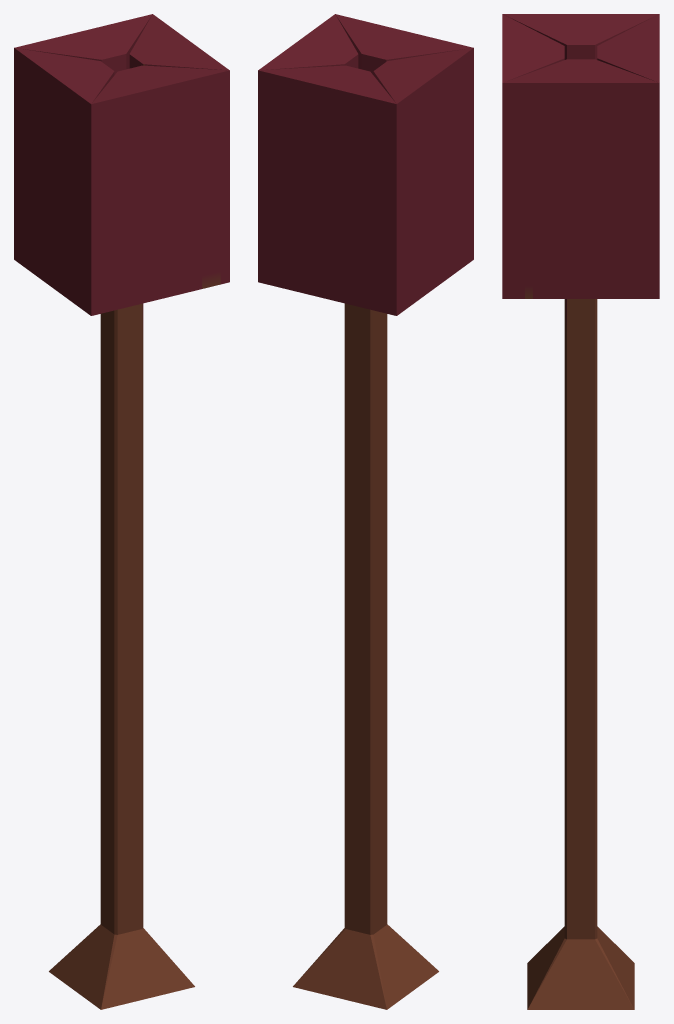
Rendered from betterlampstand.fbx.
The picture shows the model from 3 angles, left to right: view 1: azimuth 30°, elevation 25°; view 2: azimuth 150°, elevation 25°; view 3: azimuth 270°, elevation 25°; orthographic projection.
Parts seen in each view (by area): view 1: better lamp stand'; view 2: better lamp stand'; view 3: better lamp stand'.
Boxes of the visible parts, x1,y1,x2,y2 form: better lamp stand': [14, 14, 229, 1009]; better lamp stand': [258, 14, 473, 1009]; better lamp stand': [502, 14, 659, 1009].
Size of the model in its own units: 101 by 644 by 97.67.
Materials: 1 (1 with a texture image).
